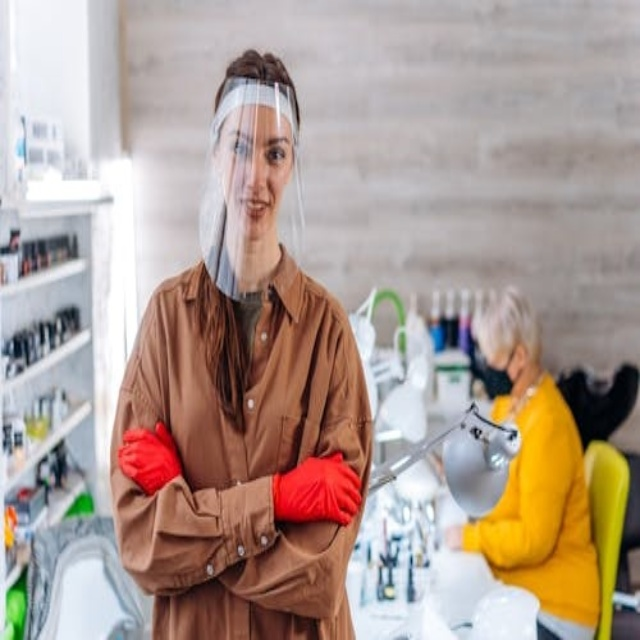Guantes: (274, 450, 362, 525), (119, 420, 184, 496)
Mascara: (479, 344, 526, 400)
Sin_gafas: (224, 119, 288, 173)
Sin_mascara: (229, 190, 276, 236)
